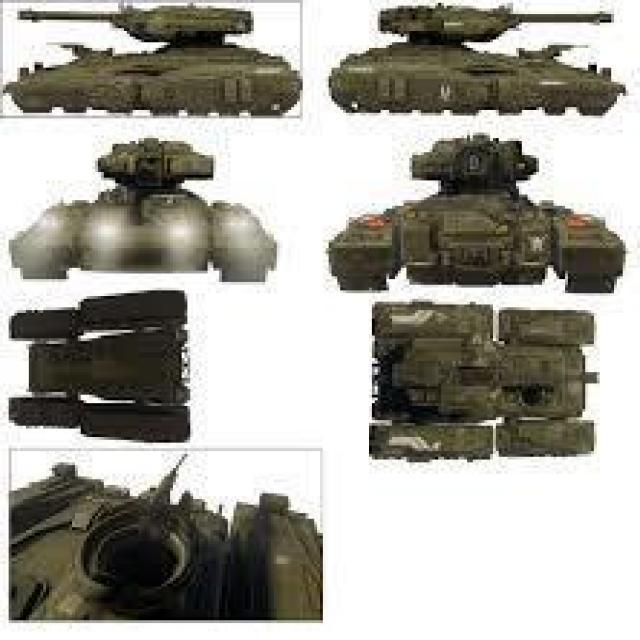MIL_MBT: (9, 448, 323, 620), (324, 131, 630, 289), (6, 140, 283, 289), (366, 297, 603, 464), (324, 4, 630, 117), (12, 4, 306, 120), (9, 293, 193, 440)
